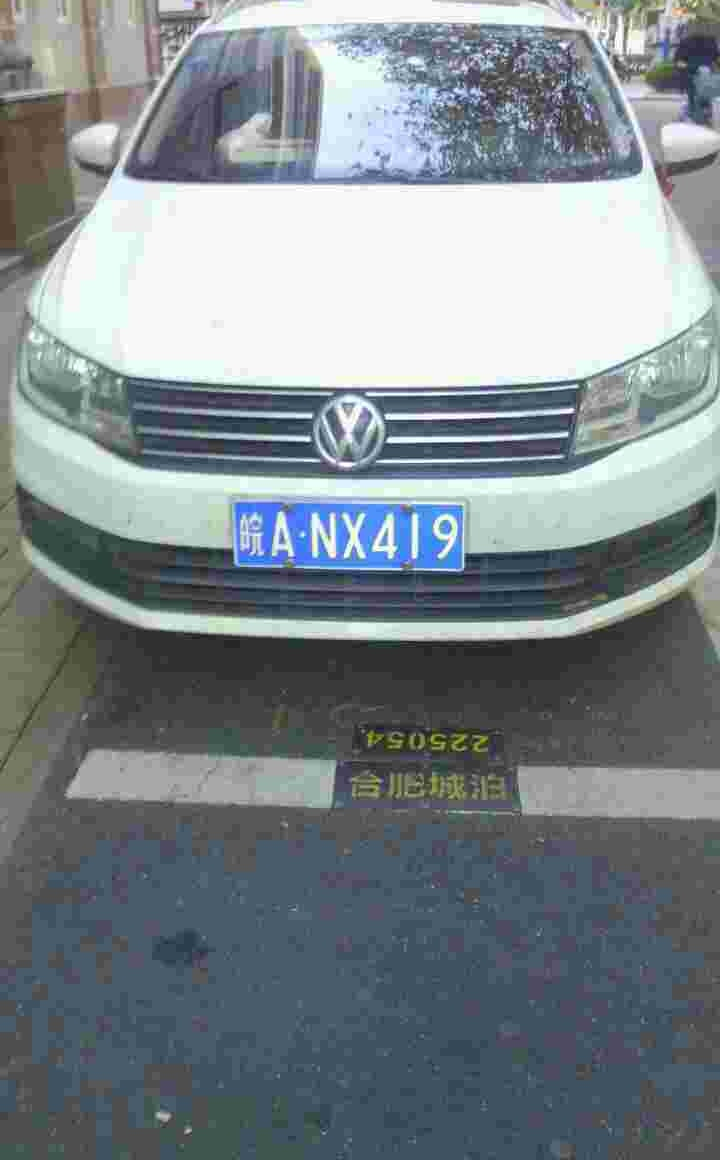license_plate: (236, 500, 462, 573)
